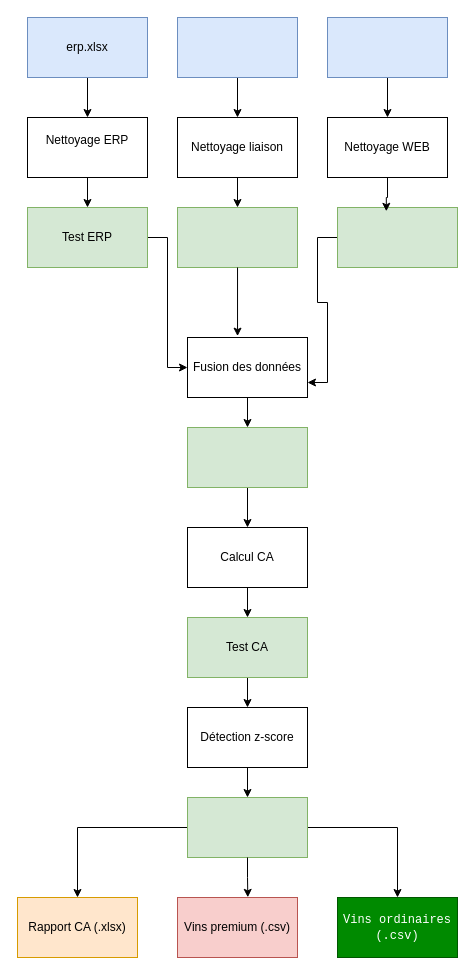
This 475x975 diagram has some shape labels left out. Here are the shapes that lost their labels. From the top down, the centre of each, then its label:
pixel 237 47: liaison.xlsx
pixel 387 47: web.xlsx
pixel 237 237: Test liaison
pixel 397 237: Test WEB
pixel 247 457: Test fusion
pixel 247 827: Test z-score
